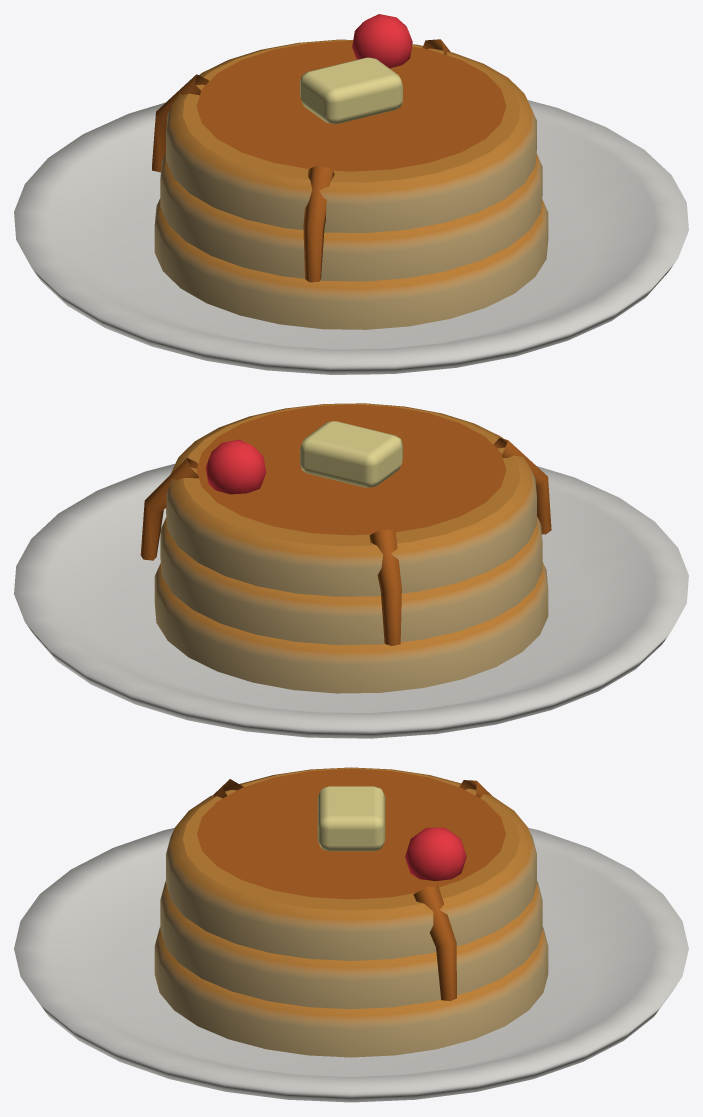
The model's file is item_dish_pancakes.glb.
3 views of the same model, one above another, from view 1: azimuth 30°, elevation 25°; view 2: azimuth 150°, elevation 25°; view 3: azimuth 270°, elevation 25° (orthographic).
Visible parts, largest first — view 1: item_dish_pancakes_main, item_dish_pancakes_gloss; view 2: item_dish_pancakes_main, item_dish_pancakes_gloss; view 3: item_dish_pancakes_main, item_dish_pancakes_gloss.
Boxes of the visible parts, x1,y1,x2,y2 form: item_dish_pancakes_main: (14, 39, 688, 374); item_dish_pancakes_gloss: (152, 14, 506, 282); item_dish_pancakes_main: (14, 403, 688, 738); item_dish_pancakes_gloss: (140, 404, 551, 645); item_dish_pancakes_main: (14, 767, 688, 1102); item_dish_pancakes_gloss: (197, 768, 505, 1000).
Bounding box in the file's own units: 0.24 × 0.081 × 0.24.
